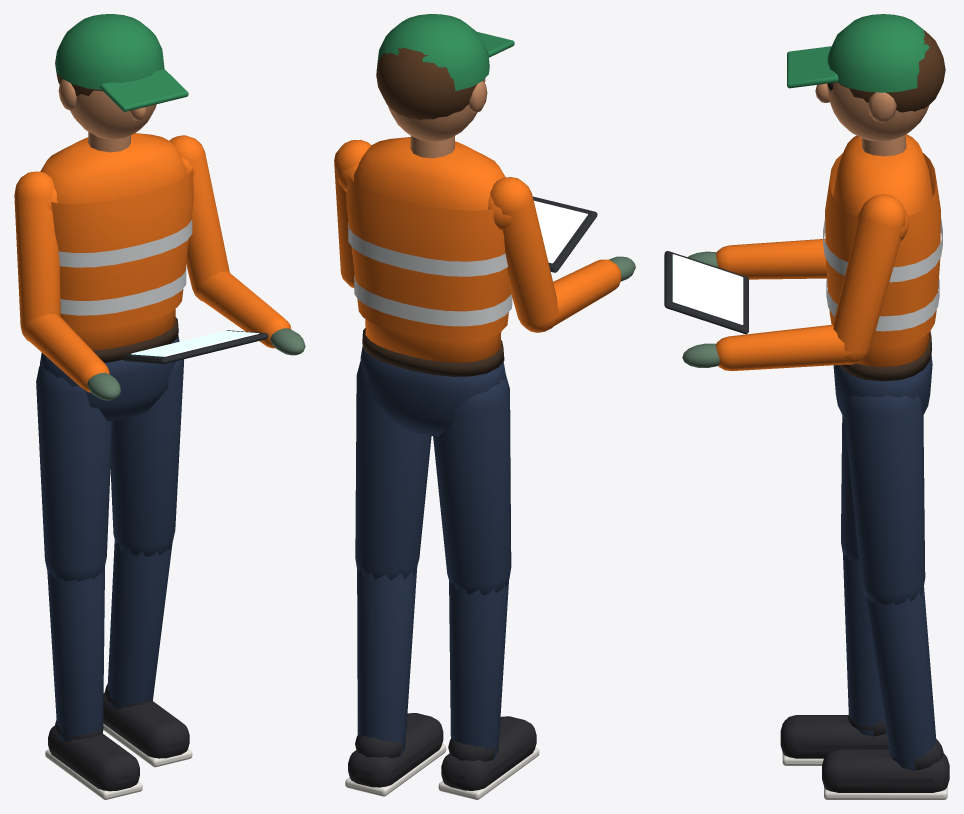
Rendered from player_tablet.fbx.
3 renders of one model, left to right at view 1: azimuth 30°, elevation 25°; view 2: azimuth 150°, elevation 25°; view 3: azimuth 270°, elevation 25°, orthographic. The views are drawn at different scales.
Visible parts, largest first — view 1: player_tablet; view 2: player_tablet; view 3: player_tablet.
Boxes of the visible parts, box(x1,y1,x2,y2) form: player_tablet: box(14, 14, 305, 799); player_tablet: box(334, 14, 635, 799); player_tablet: box(664, 14, 949, 799).
Size of the model in its own units: 0.5311 by 1.76 by 0.6041.
